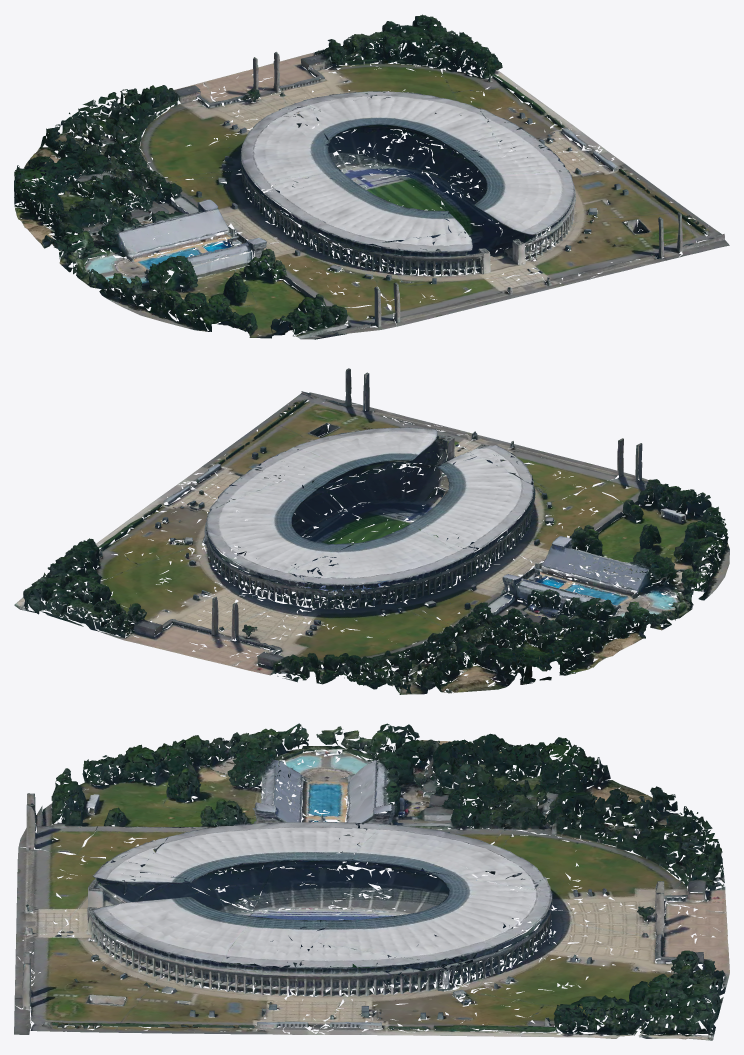
Rendered from olympia.glb.
3 views of the same model, one above another, from view 1: azimuth 30°, elevation 25°; view 2: azimuth 150°, elevation 25°; view 3: azimuth 270°, elevation 25° (orthographic). The views are drawn at different scales.
Parts seen in each view (by area): view 1: Olympic_Stadium; view 2: Olympic_Stadium; view 3: Olympic_Stadium.
Part boxes in pixels (x1,y1,x2,y2): Olympic_Stadium: (14, 14, 729, 339); Olympic_Stadium: (14, 368, 729, 694); Olympic_Stadium: (14, 723, 729, 1040).
Bounding box in the file's own units: 35.01 × 3.74 × 35.4.
2 materials, 2 textured.
